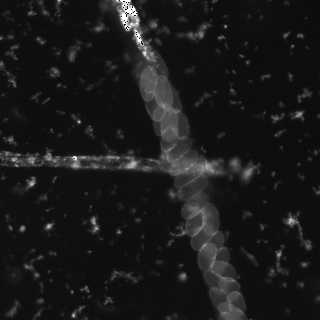embryo: (174, 162, 204, 188), (177, 175, 208, 200), (170, 150, 198, 177), (180, 193, 208, 219), (166, 136, 192, 161), (139, 66, 157, 101), (155, 75, 173, 110), (143, 91, 164, 121), (152, 103, 171, 136), (209, 288, 232, 314), (202, 203, 220, 236), (191, 224, 213, 251), (185, 210, 207, 236), (209, 261, 237, 281), (161, 110, 179, 141), (203, 271, 227, 294), (198, 243, 217, 272), (211, 246, 230, 273), (219, 277, 241, 299), (228, 291, 247, 316), (172, 112, 189, 138), (206, 231, 224, 254), (160, 127, 177, 150), (166, 87, 180, 113)
